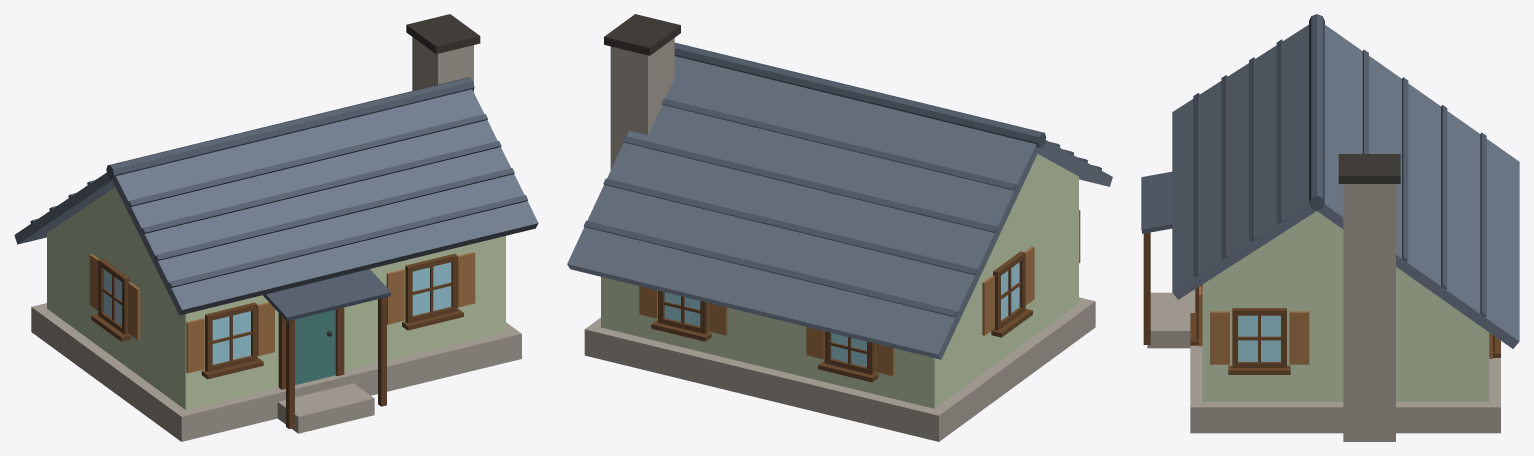
The model's file is house_5.glb.
3 renders of one model, left to right at view 1: azimuth 30°, elevation 25°; view 2: azimuth 150°, elevation 25°; view 3: azimuth 270°, elevation 25°, orthographic. The views are drawn at different scales.
Parts seen in each view (by area): view 1: House_5; view 2: House_5; view 3: House_5.
Boxes of the visible parts, left/top/right/bottom form: House_5: left=14, top=14, right=538, bottom=441; House_5: left=567, top=14, right=1112, bottom=441; House_5: left=1141, top=14, right=1519, bottom=441.
Size of the model in its own units: 9.5 by 6.28 by 7.9.
